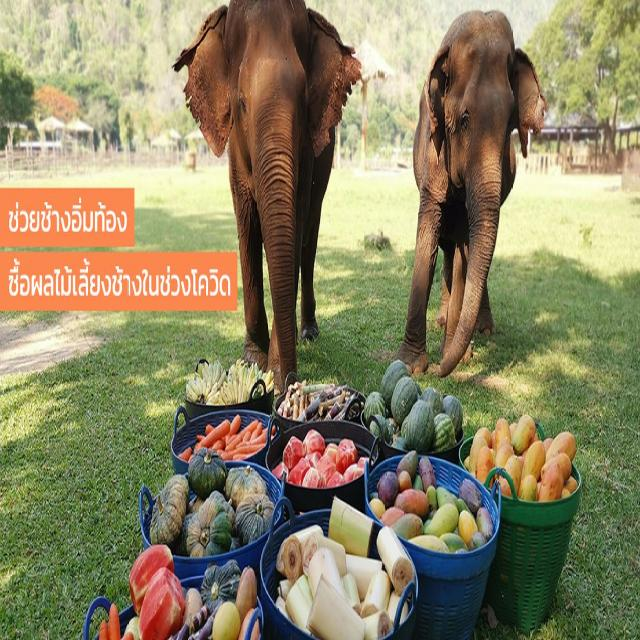Elephant: (174, 0, 356, 378), (407, 8, 564, 374)
